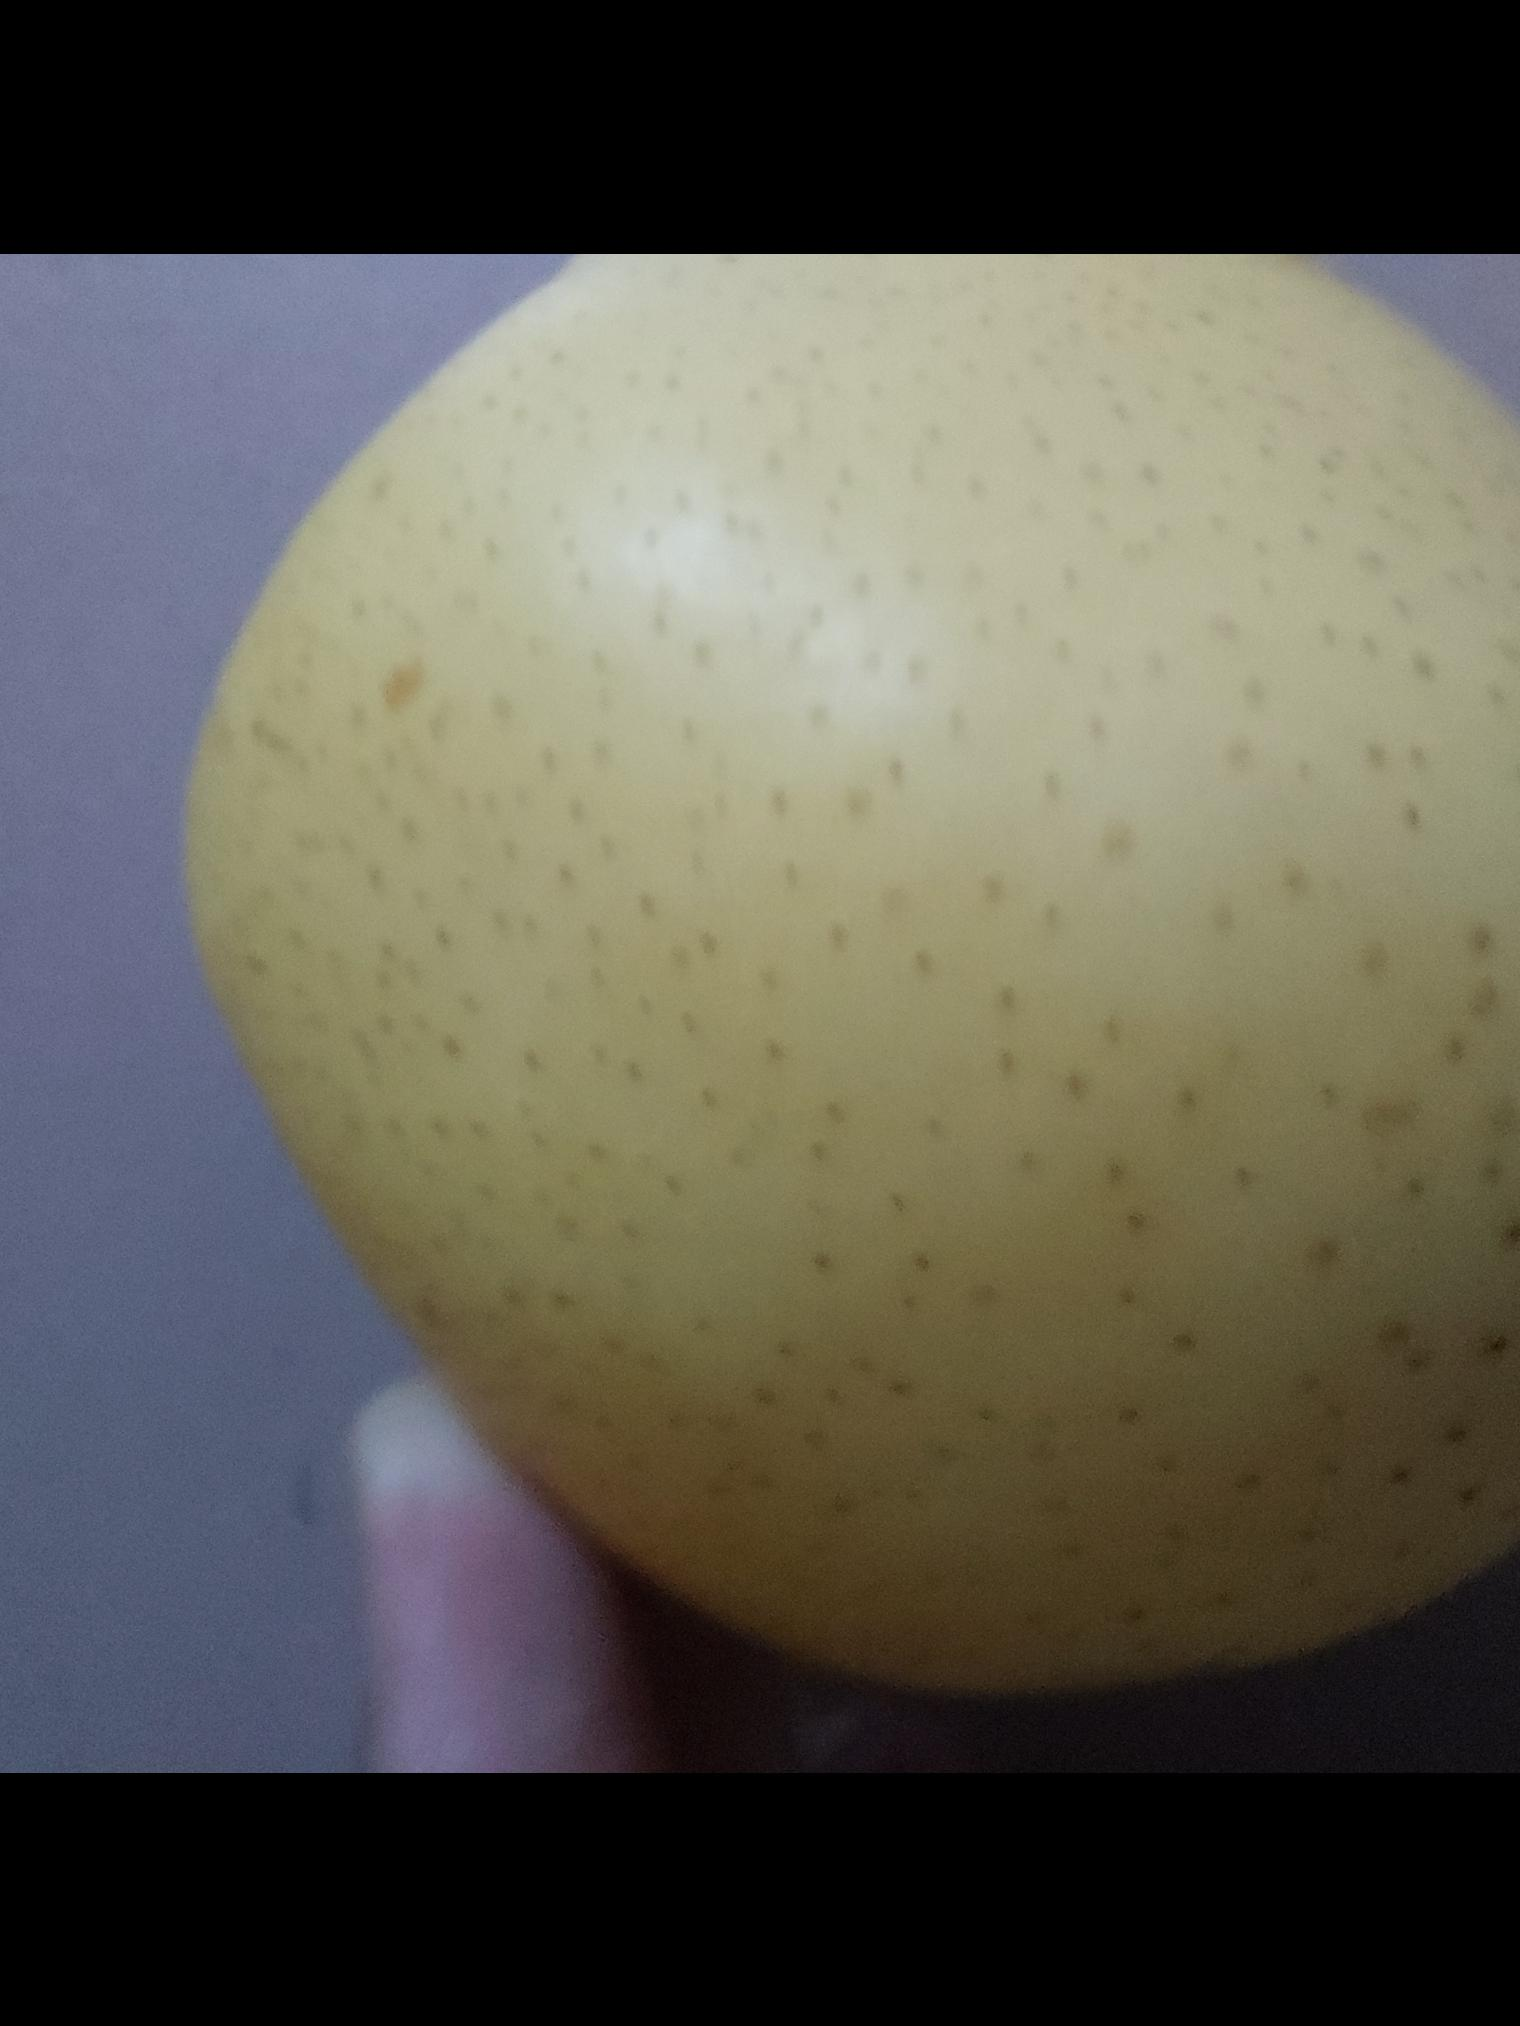Good Pear: (172, 259, 1520, 1676)
